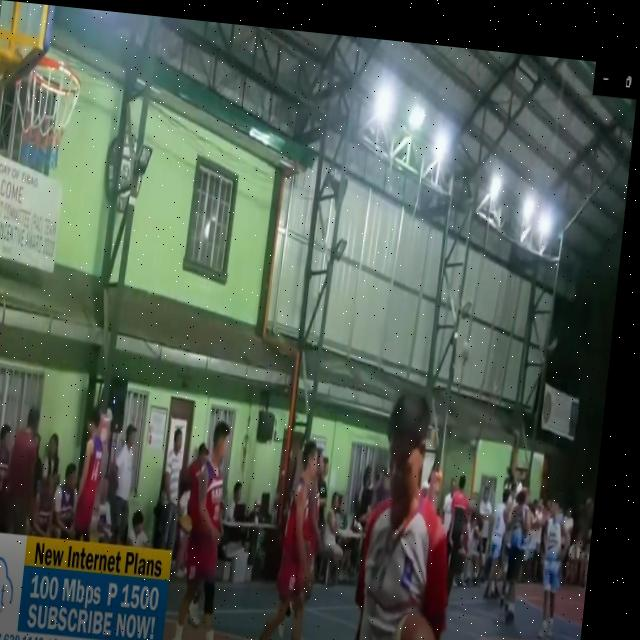basketball: (374, 596, 449, 640)
hoop: (5, 48, 87, 179)
